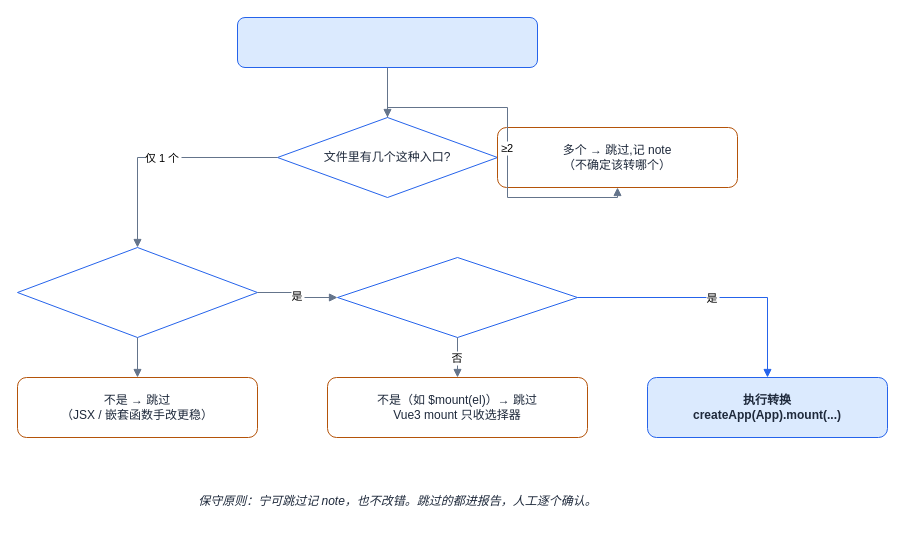
This 905x545 diagram has some shape labels left out. Each missing label, with the centre of its shape:
"$mount 参数是字符串字面量吗?" goes at pixel 457 297.
"render 是干净标识符吗? （h => h(App)）" goes at pixel 137 292.
"扫描到一个 new Vue().$mount()" goes at pixel 387 42.
